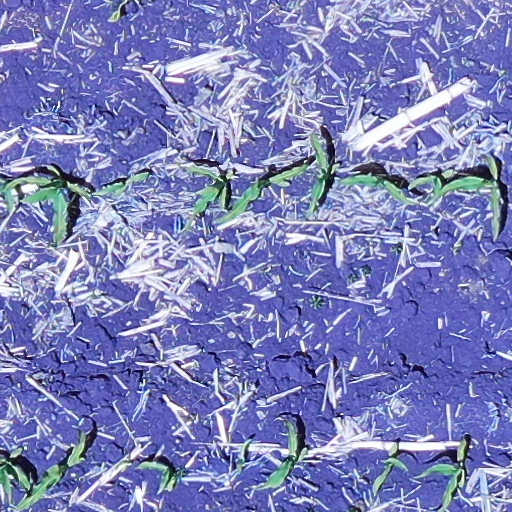planta: (14, 433, 88, 511), (218, 161, 309, 223), (435, 156, 502, 233), (182, 164, 227, 231), (262, 423, 309, 487), (340, 173, 415, 204), (307, 131, 330, 219), (409, 170, 455, 207), (93, 170, 150, 198), (373, 442, 403, 492), (139, 460, 178, 490)
